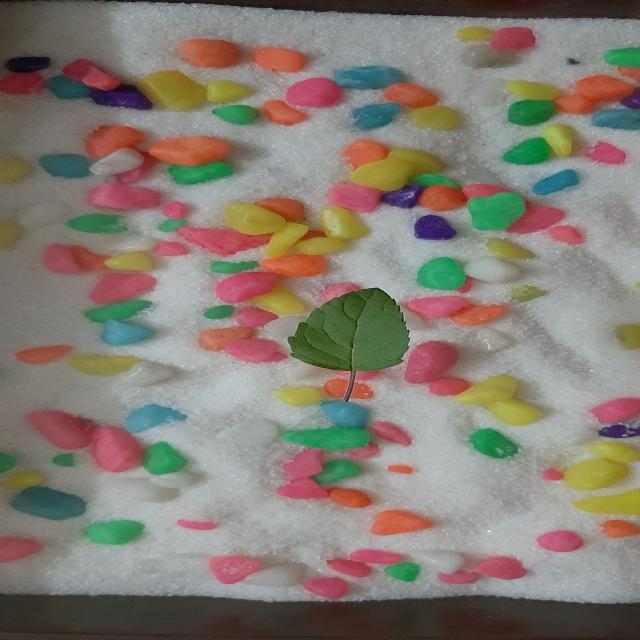tulsi: (287, 288, 409, 375)
